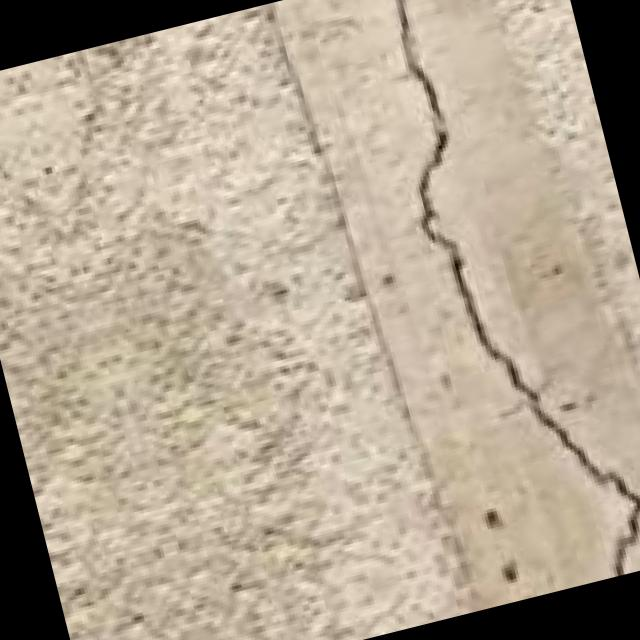crack: (301, 0, 640, 613)
